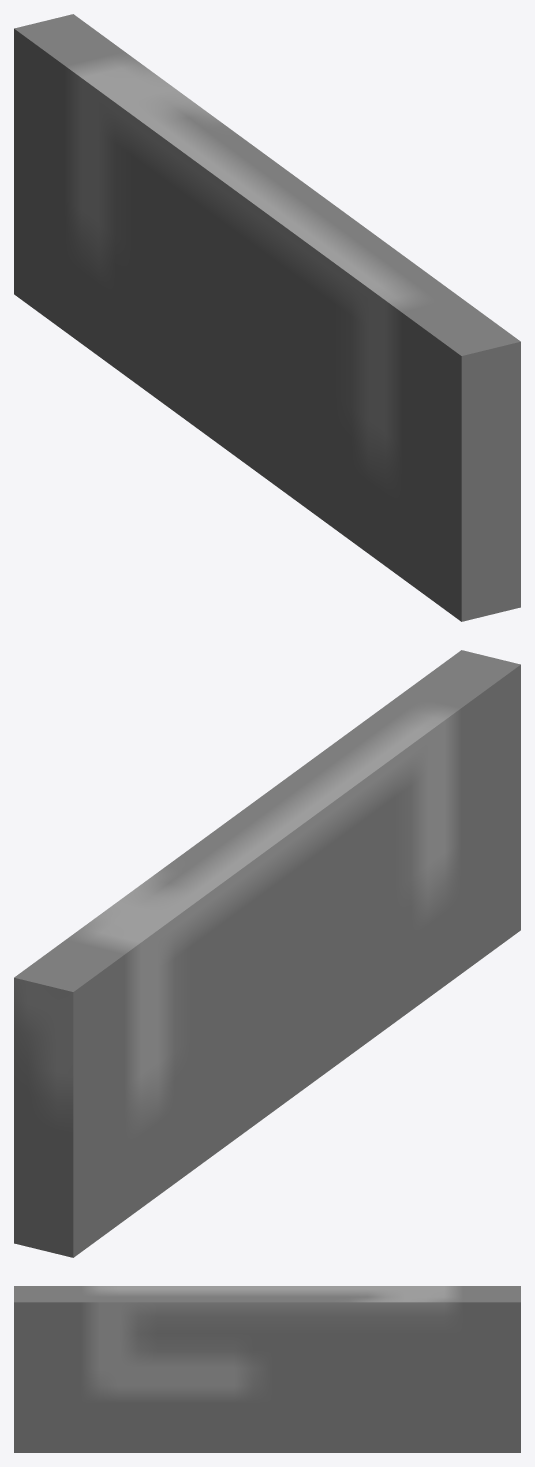
The model's file is wall_Default.fbx.
3 renders of one model, top to bottom at view 1: azimuth 30°, elevation 25°; view 2: azimuth 150°, elevation 25°; view 3: azimuth 270°, elevation 25°, orthographic. The views are drawn at different scales.
Parts seen in each view (by area): view 1: wall_Default; view 2: wall_Default; view 3: wall_Default.
Boxes of the visible parts, <box> form: wall_Default: <box>14,14,520,621</box>; wall_Default: <box>14,650,520,1257</box>; wall_Default: <box>14,1286,520,1452</box>.
Bounding box in the file's own units: 318 × 1360 × 4152.
